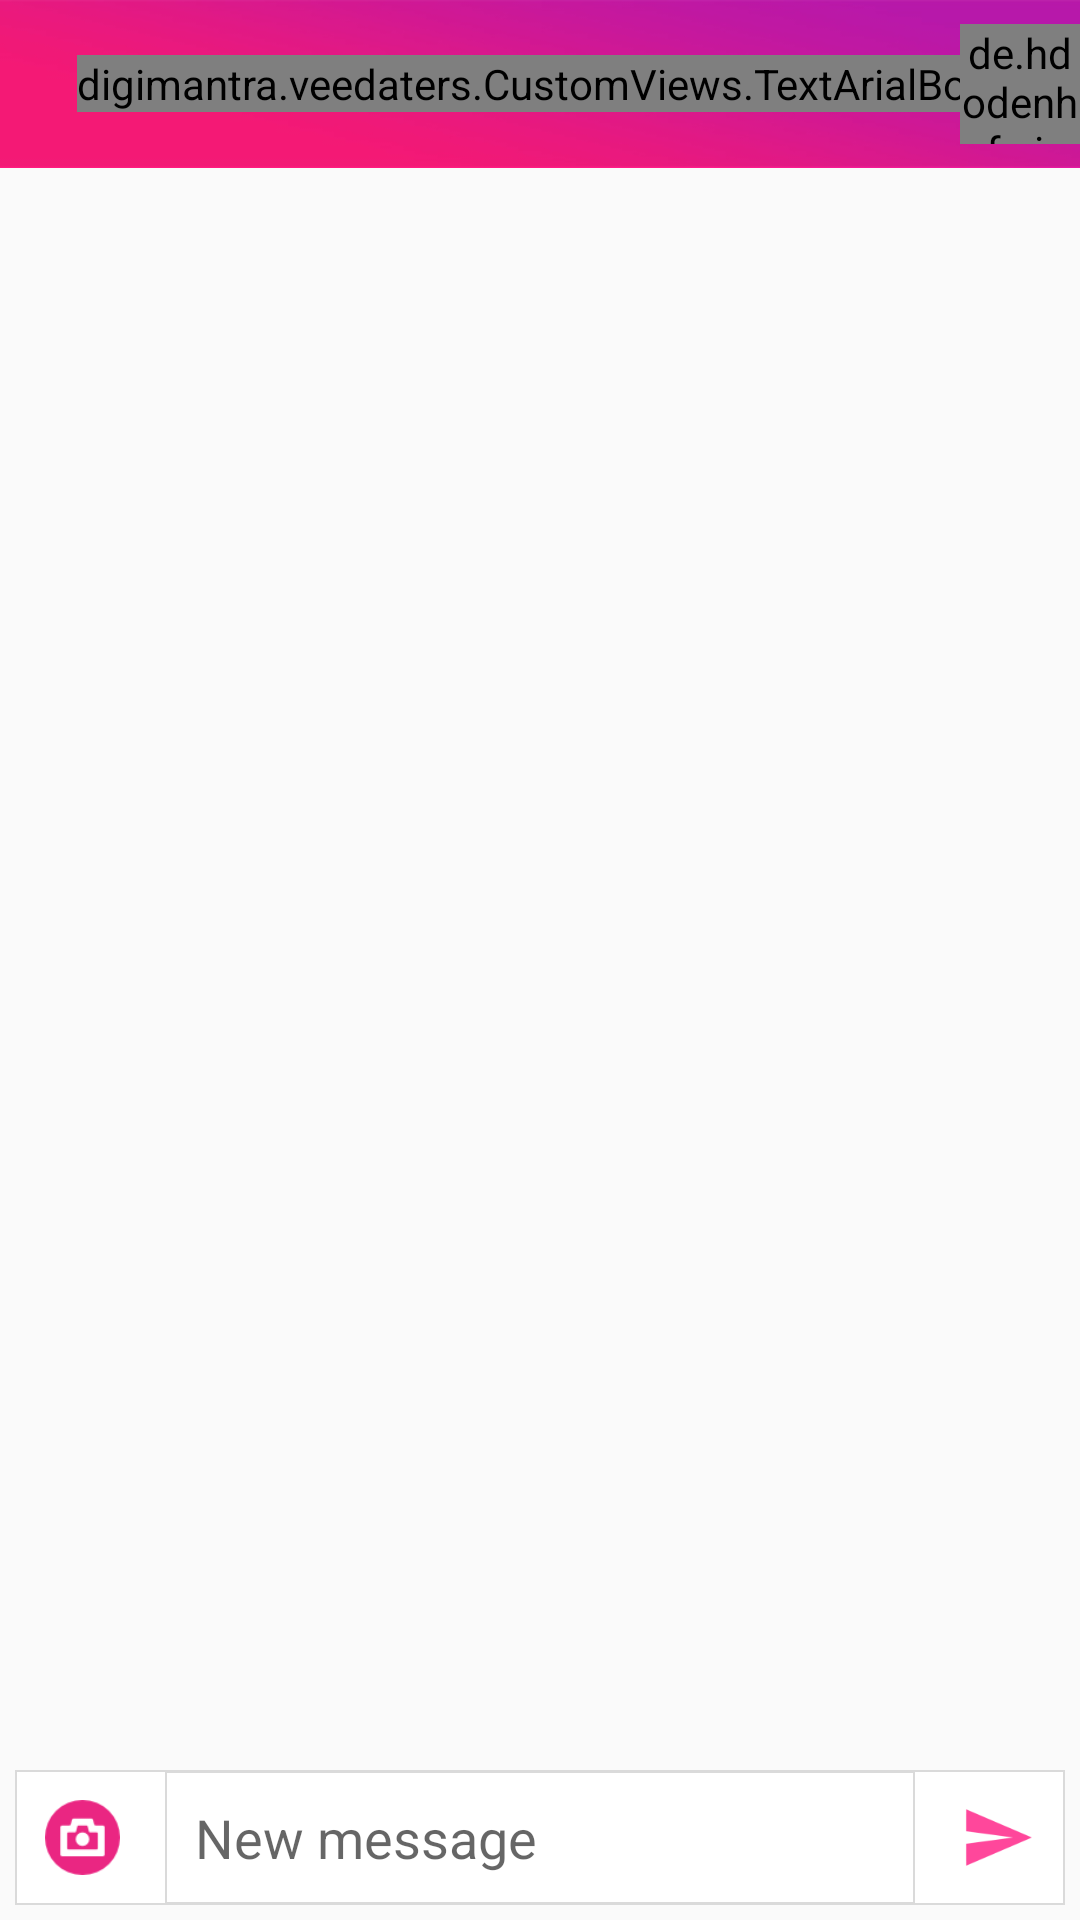

Screen size 1080×1920. Icon name, then its box in pixels as [x1=x1, y1=y1, x2=x2, y2=y2]:
photo camera: [x1=45, y1=1800, x2=120, y2=1875]
send: [x1=966, y1=1809, x2=1032, y2=1866]
